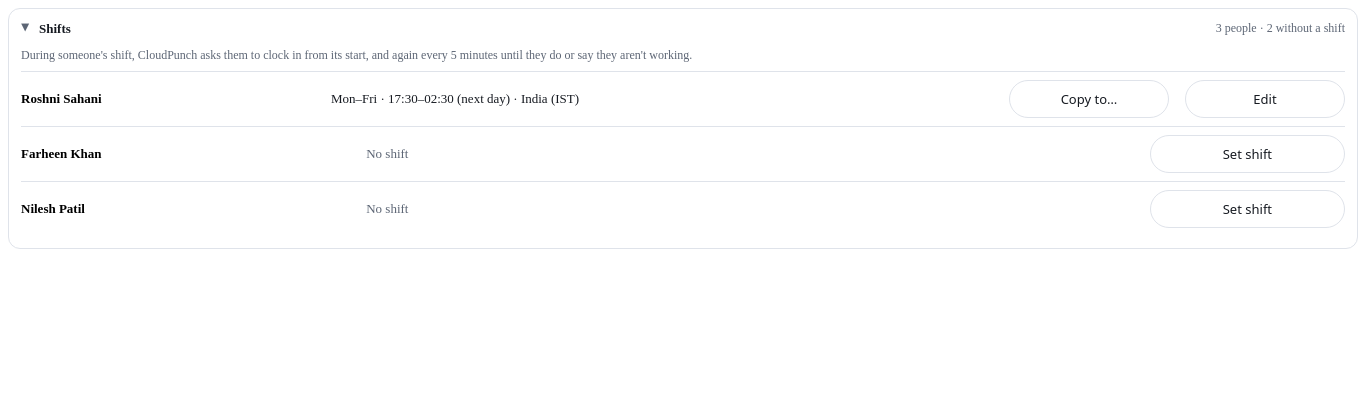
Test: Copy to… › gives one person’s shift to everyone ticked
This screenshot has width=1366, height=402.
Click the button "Copy to…": (1089, 99) [1009,80,1169,118]
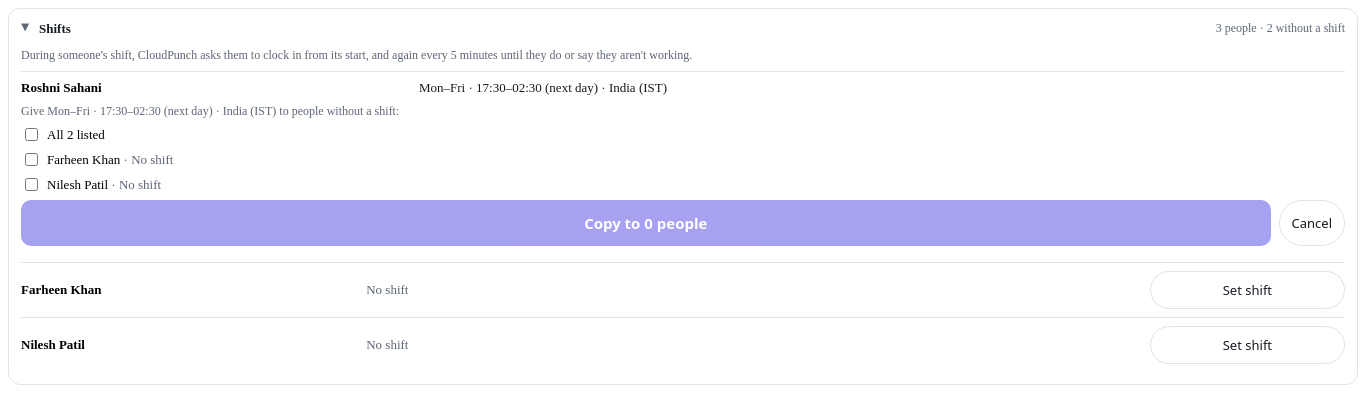
Click the checkbox named "copy to Farheen Khan": (32, 160) [25,153,38,166]
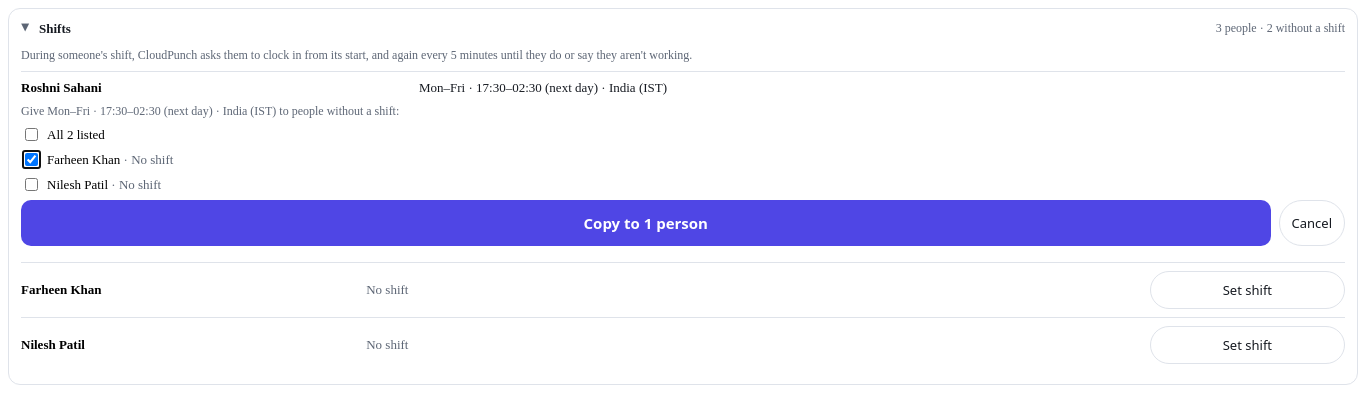
Click the checkbox named "copy to Nilesh Patil": (32, 184) [25,178,38,191]
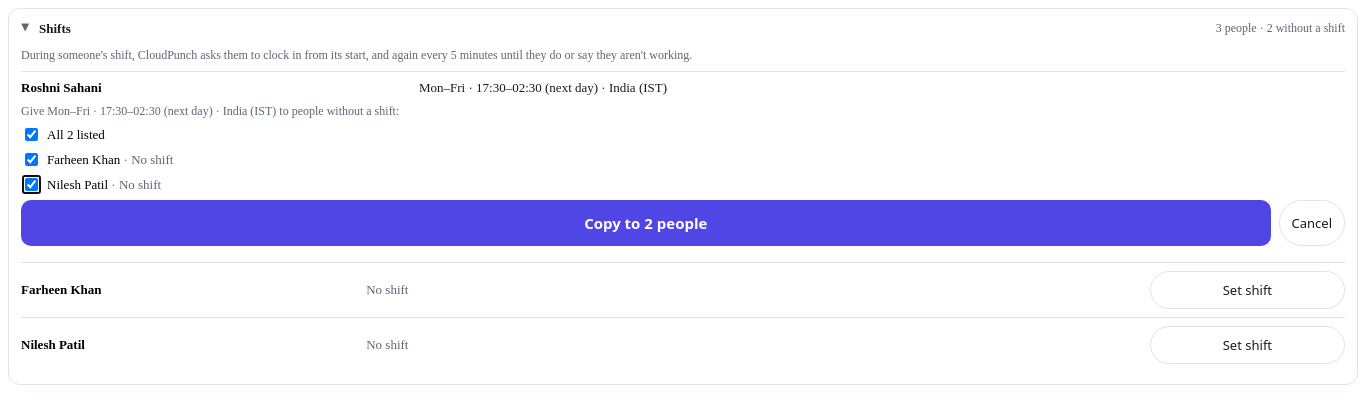
Click the button "Copy to 2 people": (646, 223) [21,200,1270,246]
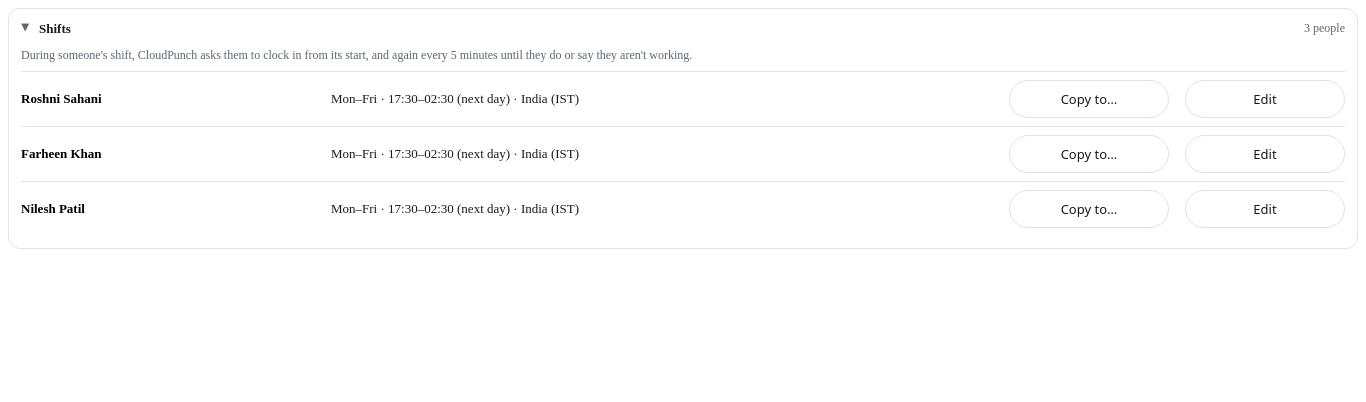
Result: the text named "shift of Nilesh Patil" reads "Mon–Fri · 17:30–02:30 (next day) · India (IST)" at [331,201,579,216]
